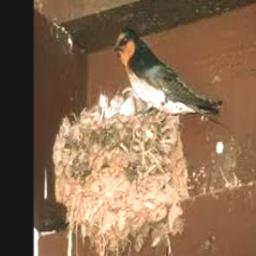Swallow: (114, 28, 222, 117)
